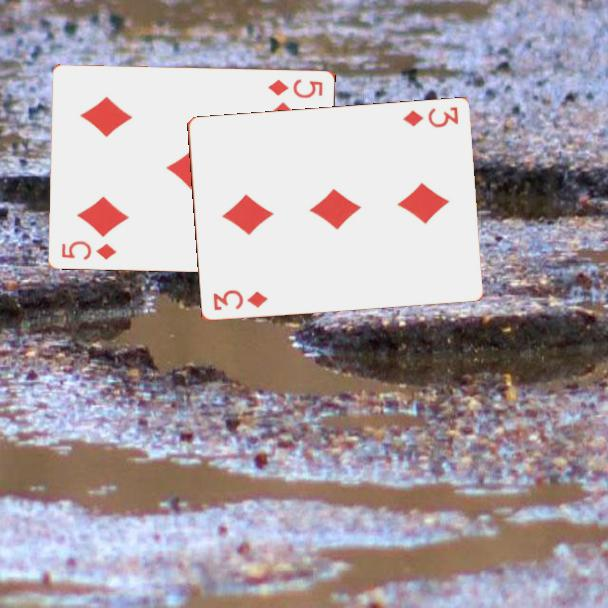d03: (399, 103, 461, 131), (209, 287, 270, 314)
d05: (265, 75, 326, 101), (58, 237, 120, 262)
